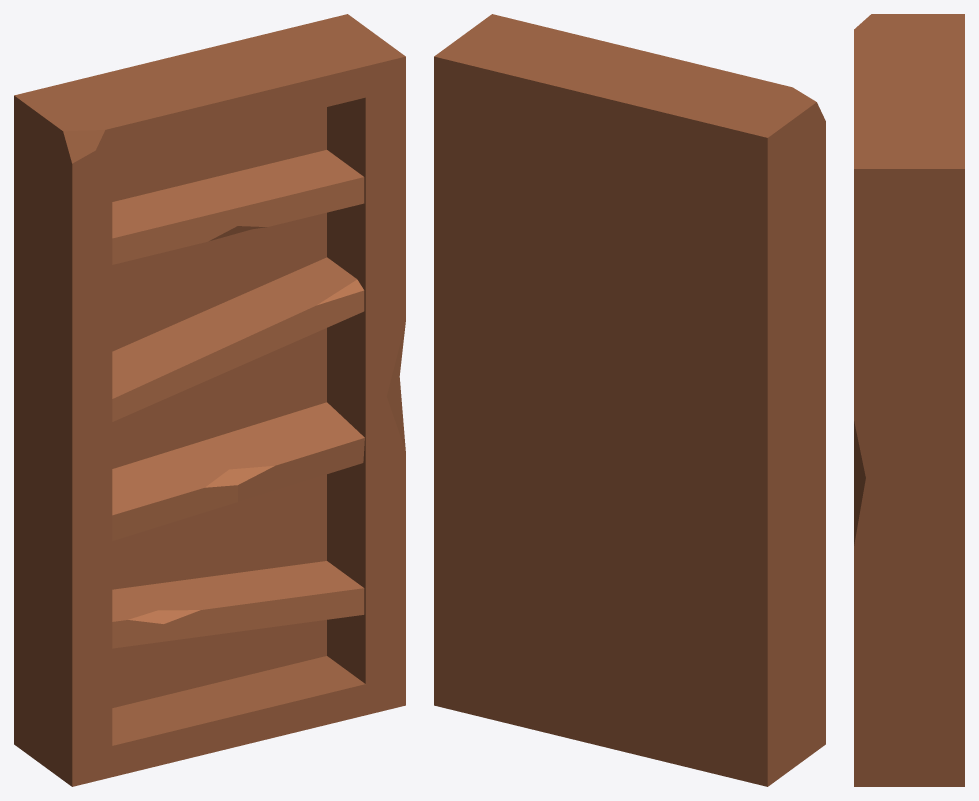
File: bookshelf_broken.obj
3 views of the same model, side by side, from view 1: azimuth 30°, elevation 25°; view 2: azimuth 150°, elevation 25°; view 3: azimuth 270°, elevation 25° (orthographic). The views are drawn at different scales.
Parts seen in each view (by area): view 1: bookshelf_broken; view 2: bookshelf_broken; view 3: bookshelf_broken.
Part boxes in pixels (left/top/right/bottom): bookshelf_broken: left=14, top=14, right=405, bottom=786; bookshelf_broken: left=434, top=14, right=825, bottom=786; bookshelf_broken: left=854, top=14, right=964, bottom=786.
Size of the model in its own units: 0.4828 by 0.8972 by 0.1456.
